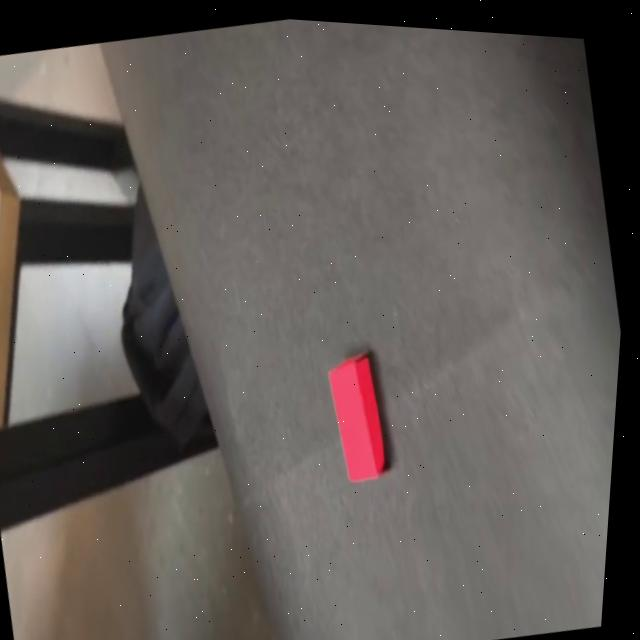red block: (315, 347, 396, 488)
